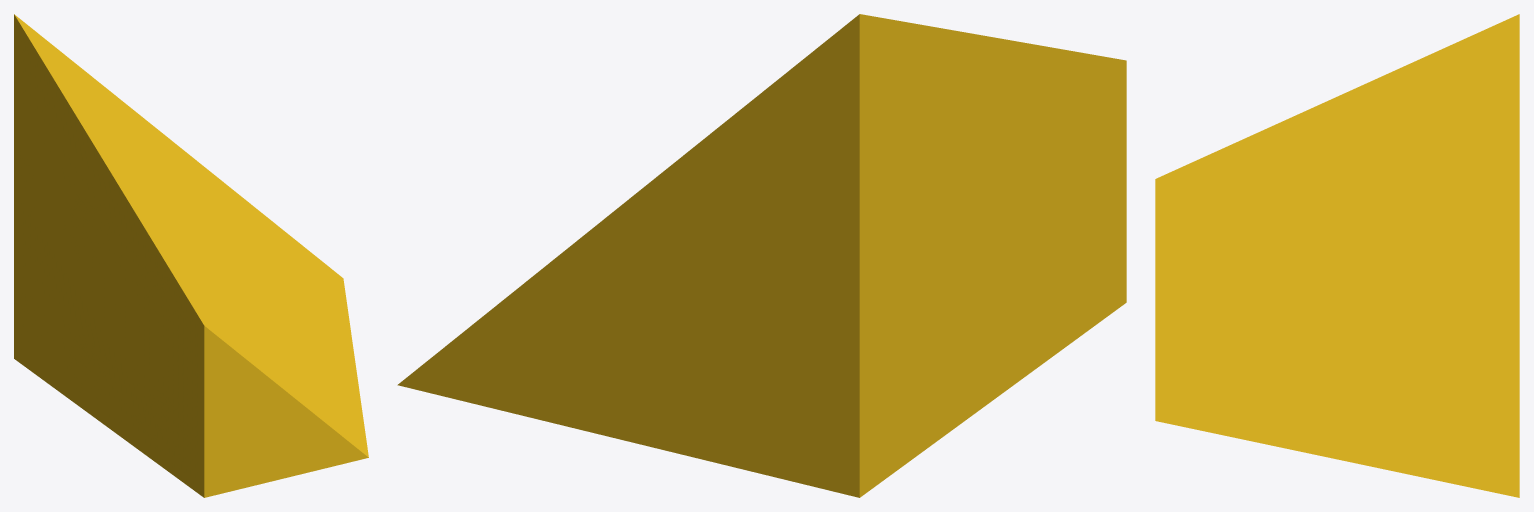
Rendered from r5c2_body_yellow.gltf.
3 renders of one model, left to right at view 1: azimuth 30°, elevation 25°; view 2: azimuth 150°, elevation 25°; view 3: azimuth 270°, elevation 25°, orthographic. The views are drawn at different scales.
Visible parts, largest first — view 1: r5c2_body_yellow; view 2: r5c2_body_yellow; view 3: r5c2_body_yellow.
Part boxes in pixels (x1=…): r5c2_body_yellow: x1=14, y1=14, x2=368, y2=497; r5c2_body_yellow: x1=397, y1=14, x2=1126, y2=497; r5c2_body_yellow: x1=1155, y1=14, x2=1519, y2=497.
Size of what is drawn, in the model's own units: 2 by 2 by 2.
Materials: 1 (1 with a texture image).
